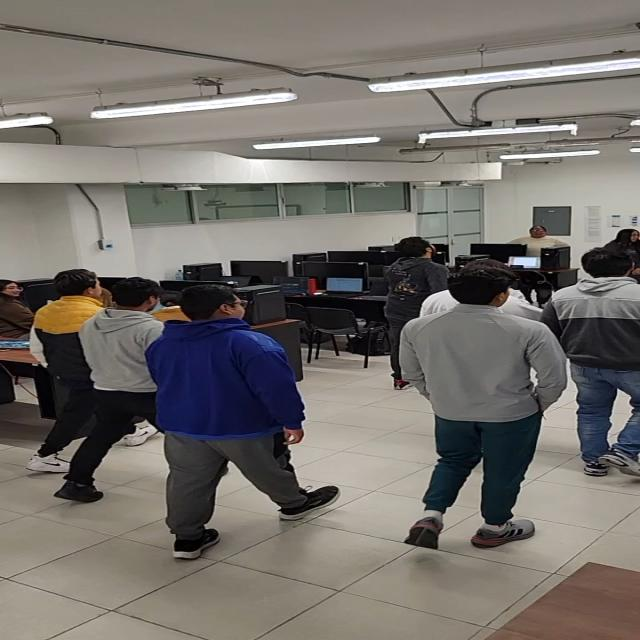Persona: (156, 281, 342, 566), (403, 263, 560, 553), (549, 244, 640, 491), (84, 276, 164, 506), (22, 264, 100, 478), (384, 232, 438, 390)
